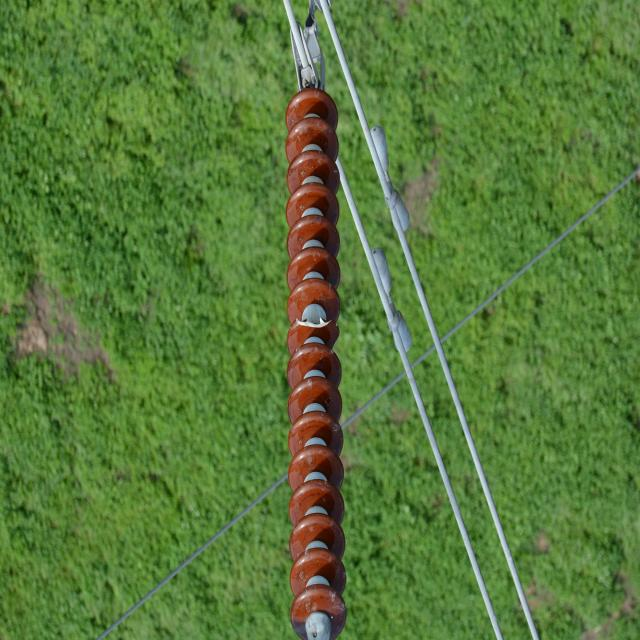broken: (294, 314, 341, 353)
insulator: (285, 89, 347, 632)
